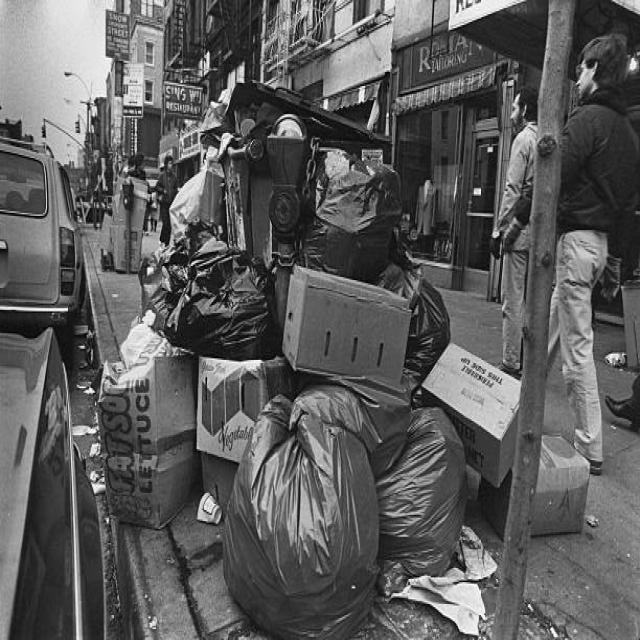trash: (108, 97, 516, 598)
